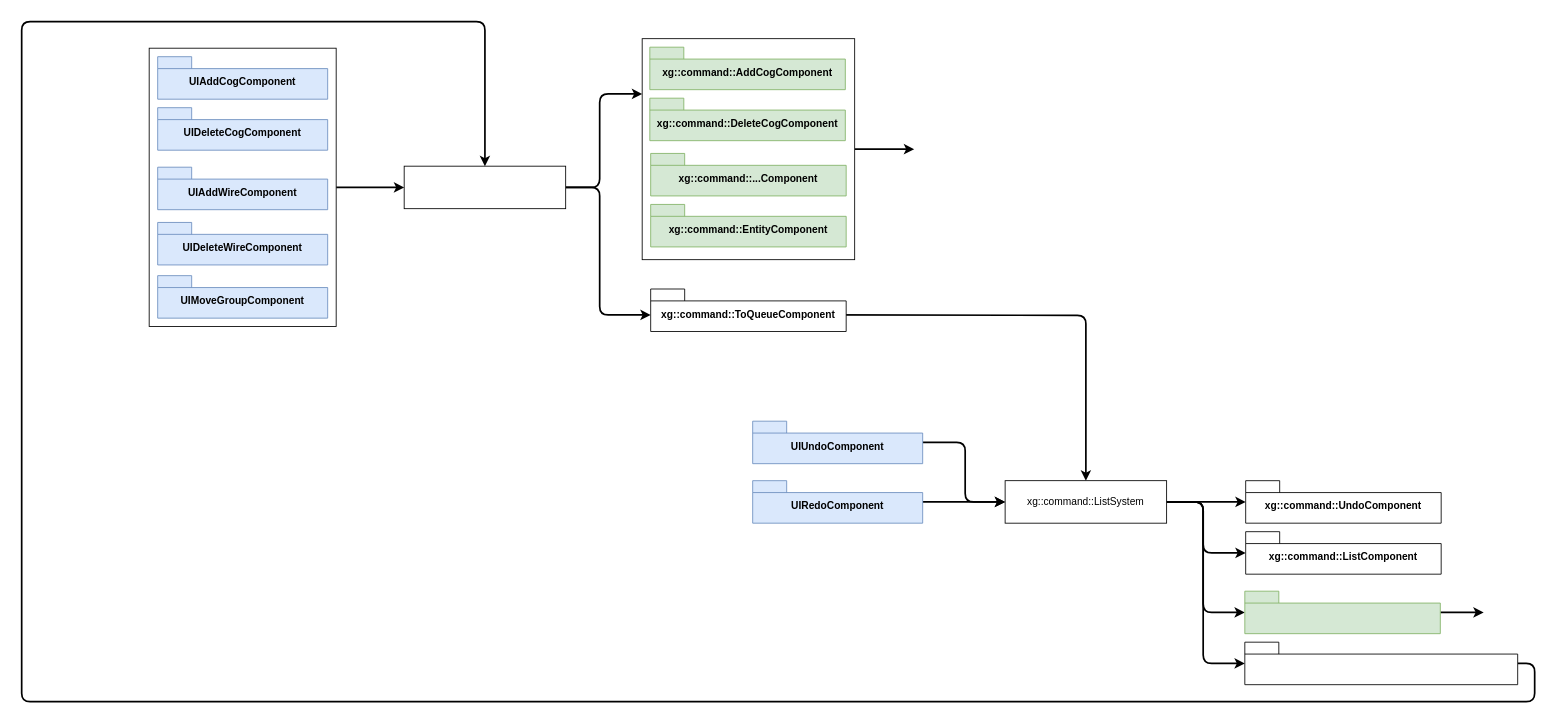
The diagram is 1556 pixels wide and 723 high, and some of its shapes have lost their labels. Here are the shapes that lost their labels. From the top down, the box of each, then its label:
(403, 165, 566, 209): xg::command::CreatorSystem
(1244, 590, 1440, 634): xg::command::ExecuteComponent
(1244, 641, 1518, 685): xg::command::RemovedFromHistoryComponent
